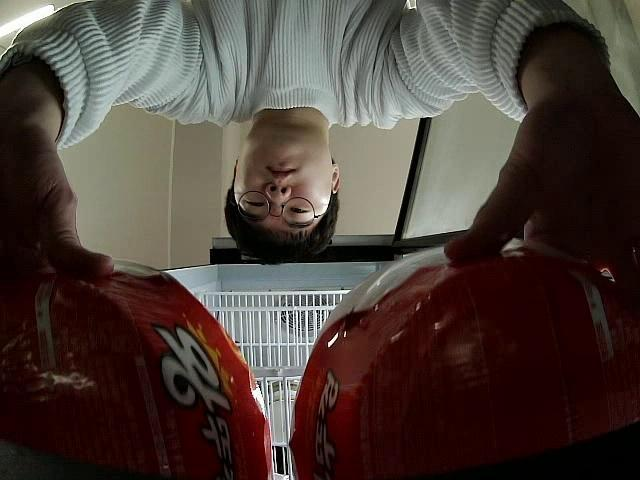10_wangTtukkeong: (290, 247, 640, 480), (0, 257, 273, 480)
